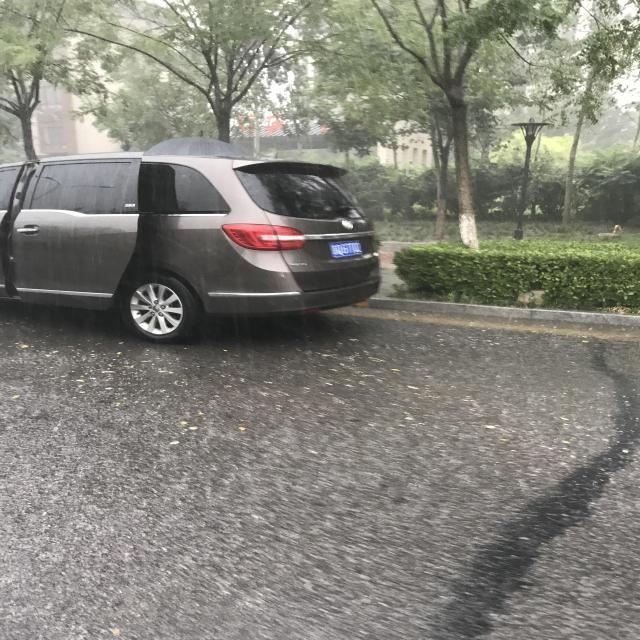car: (144, 254, 343, 639)
